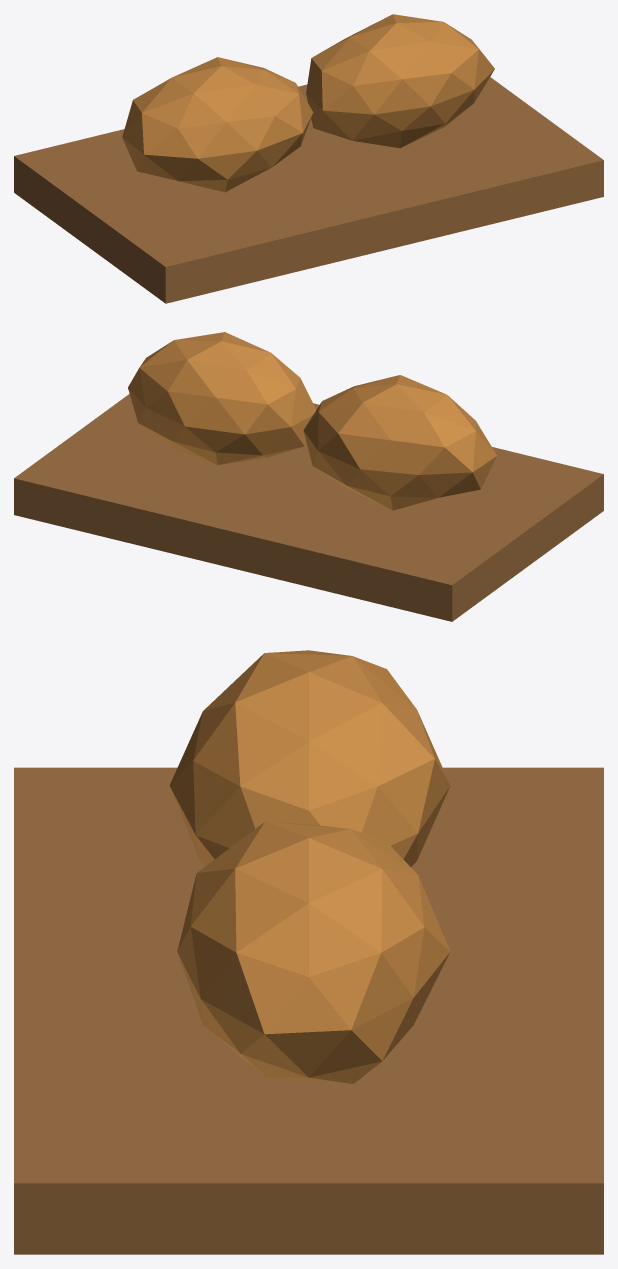
File: food_bread.glb
3 views of the same model, one above another, from view 1: azimuth 30°, elevation 25°; view 2: azimuth 150°, elevation 25°; view 3: azimuth 270°, elevation 25° (orthographic). The views are drawn at different scales.
Parts seen in each view (by area): view 1: food_bread; view 2: food_bread; view 3: food_bread.
Part boxes in pixels (bbox=[...]): food_bread: bbox=[14, 14, 603, 303]; food_bread: bbox=[14, 332, 603, 621]; food_bread: bbox=[14, 650, 603, 1254].
Bounding box in the file's own units: 0.5 × 0.1638 × 0.3.
